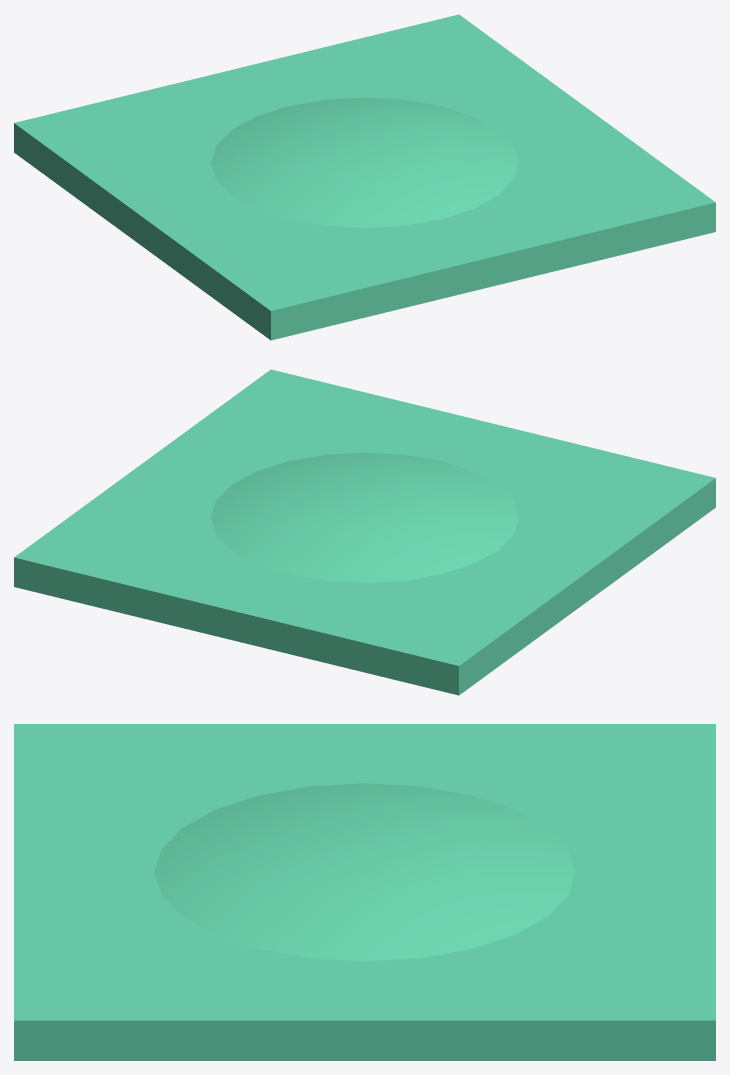
The model's file is bump.glb.
The picture shows the model from 3 angles, top to bottom: view 1: azimuth 30°, elevation 25°; view 2: azimuth 150°, elevation 25°; view 3: azimuth 270°, elevation 25°; orthographic projection. The views are drawn at different scales.
Parts seen in each view (by area): view 1: bump; view 2: bump; view 3: bump.
Part boxes in pixels (left/top/right/bottom): bump: left=14, top=14, right=715, bottom=340; bump: left=14, top=369, right=715, bottom=695; bump: left=14, top=724, right=715, bottom=1060.
Size of the model in its own units: 0.9999 by 0.0967 by 0.9999.
